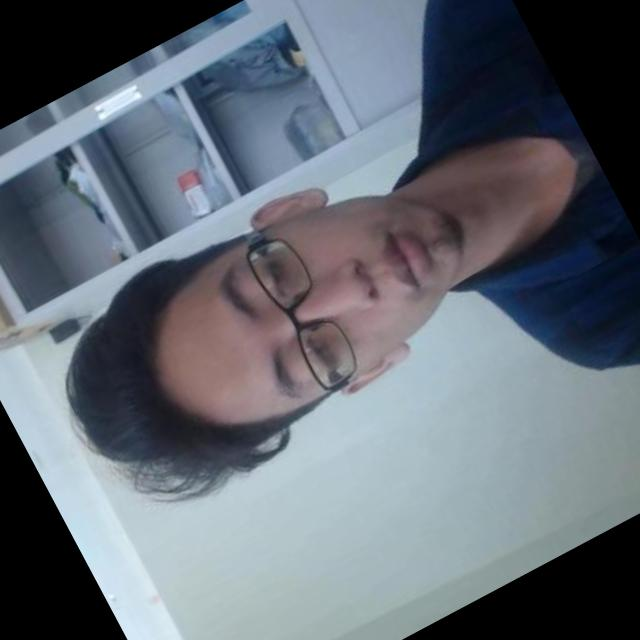bareface: (36, 127, 498, 513)
